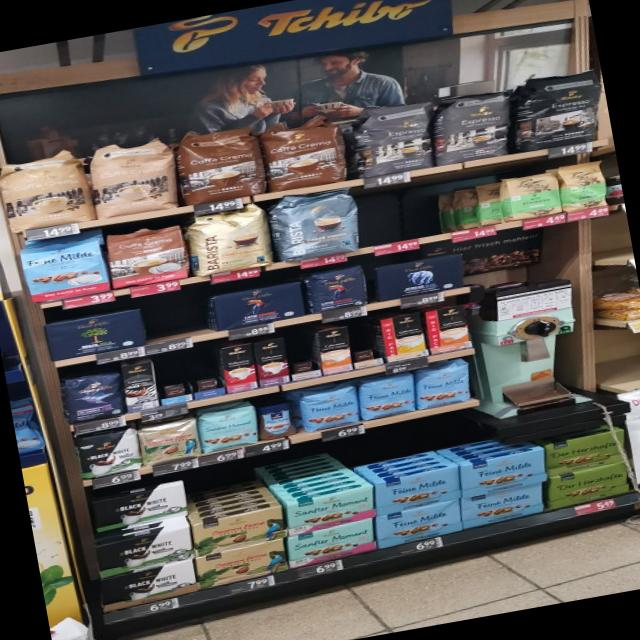CC Mild: (0, 139, 153, 237), (76, 131, 183, 221)
